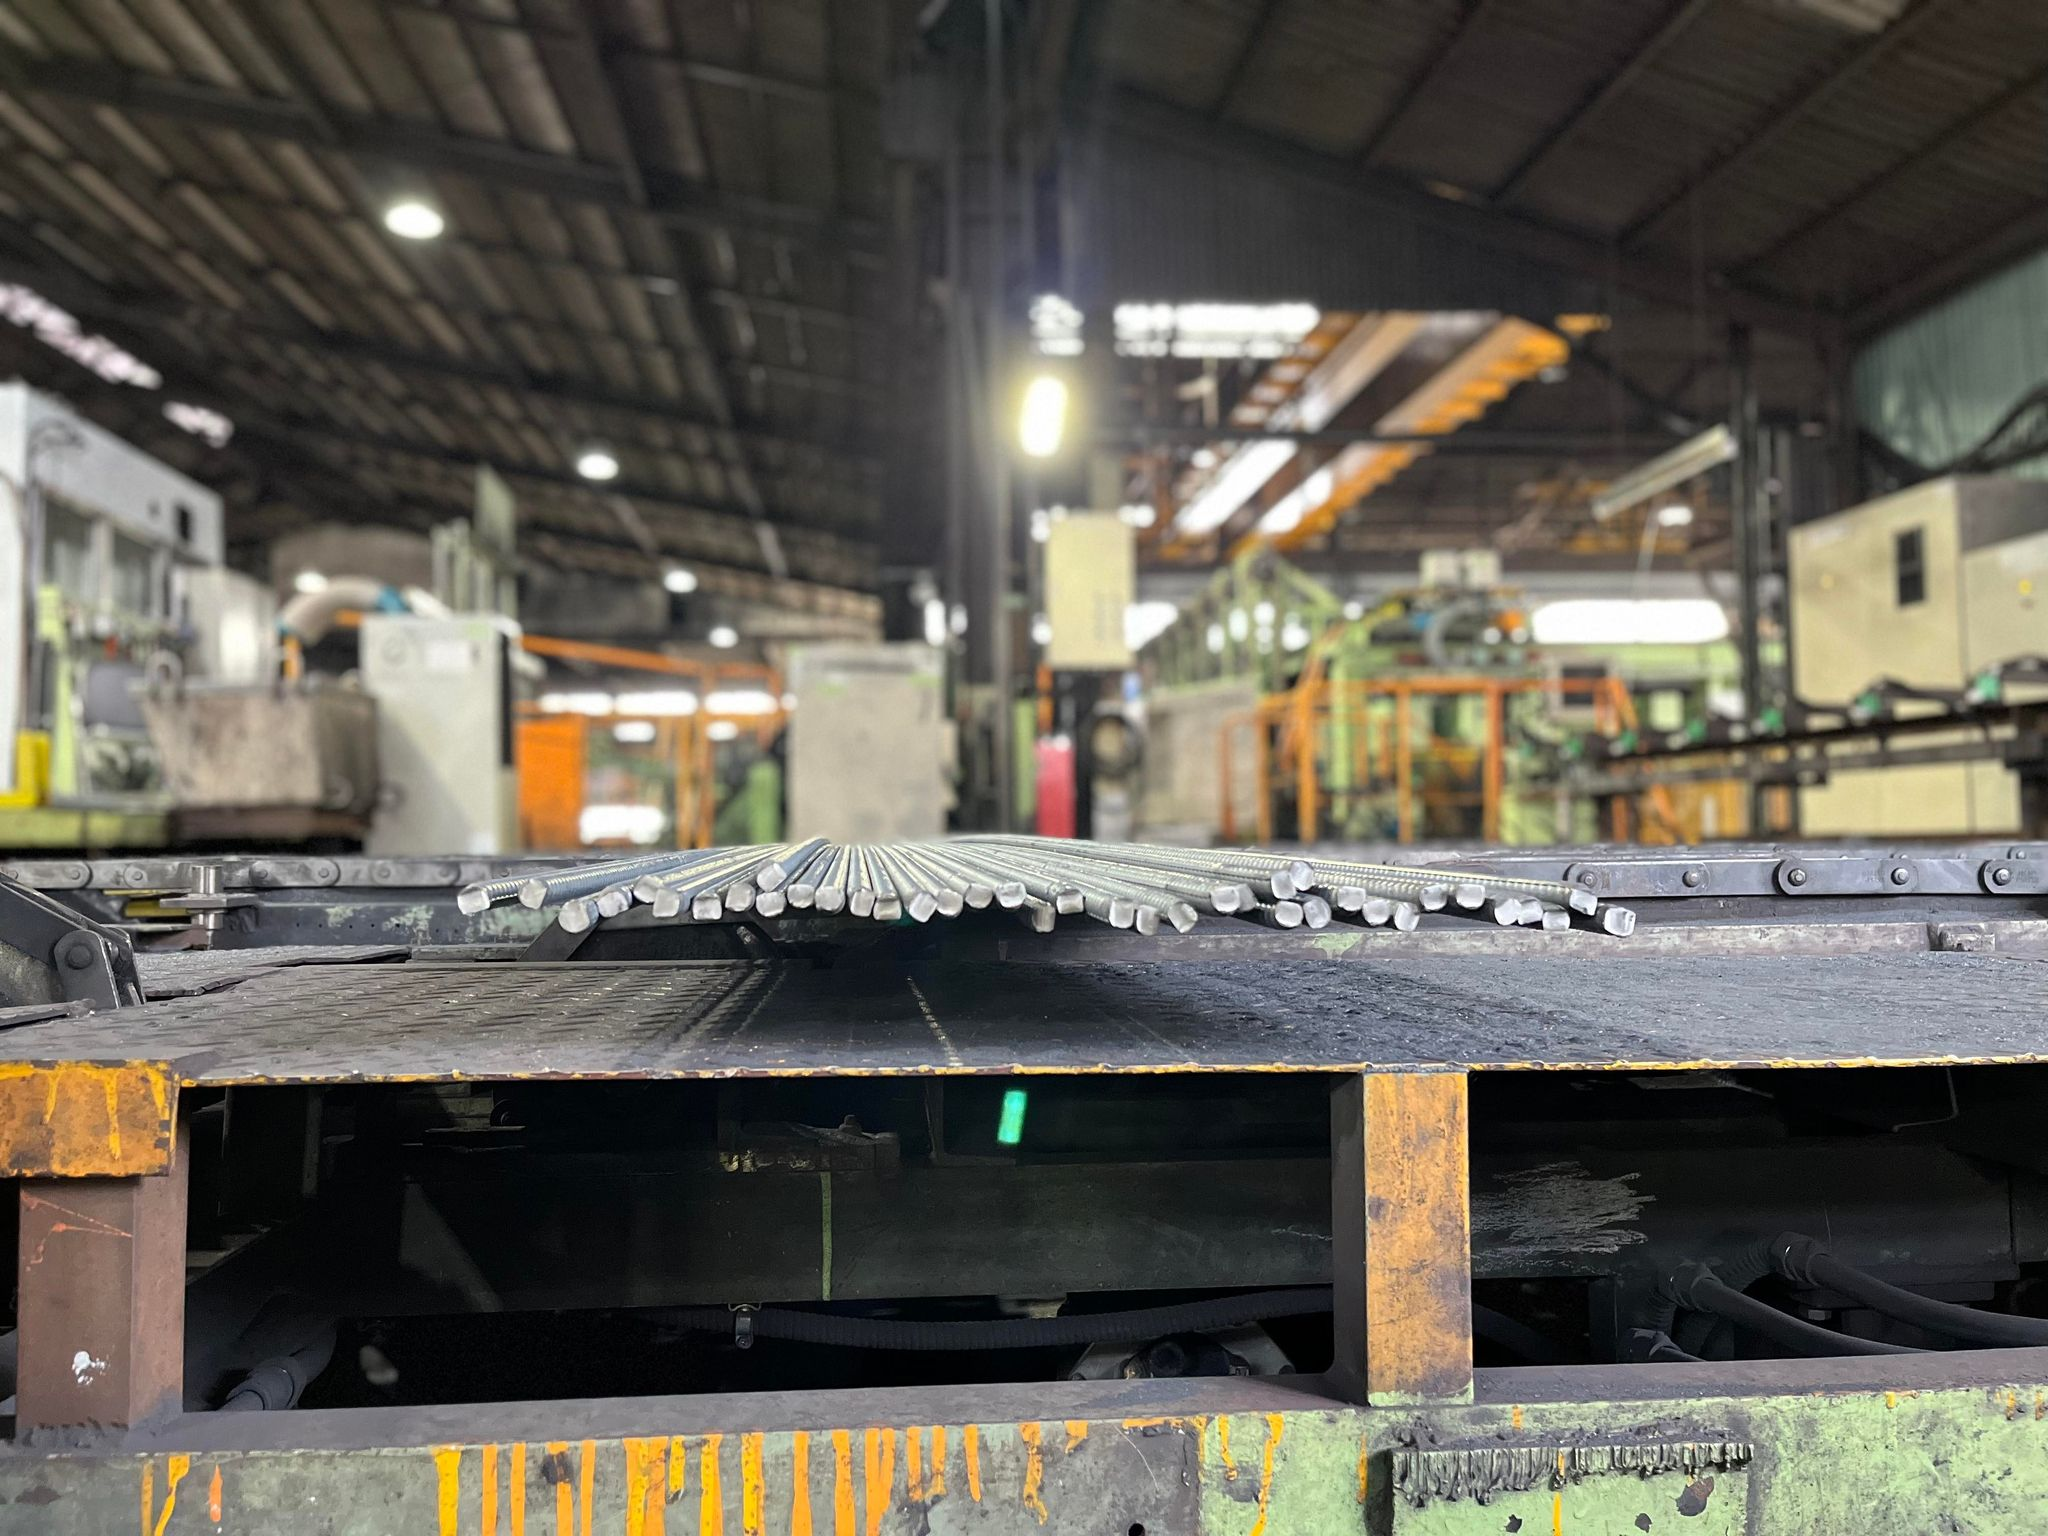rod: (455, 883, 493, 916), (1166, 899, 1200, 936), (1601, 905, 1640, 937), (556, 899, 592, 933), (516, 876, 548, 910), (597, 887, 631, 920), (724, 879, 756, 913), (906, 891, 939, 925), (1287, 858, 1317, 892), (632, 873, 664, 904), (651, 887, 682, 920), (692, 889, 722, 921), (755, 891, 789, 920), (1106, 895, 1135, 929), (1417, 883, 1451, 912), (1056, 886, 1087, 916), (1361, 897, 1392, 928), (814, 886, 847, 915), (872, 889, 901, 921), (1272, 899, 1305, 928), (1335, 883, 1367, 912), (755, 863, 789, 891), (1393, 899, 1421, 933), (997, 879, 1027, 908), (1208, 884, 1238, 913), (848, 886, 876, 918), (1135, 904, 1163, 936), (1305, 897, 1332, 929), (1455, 883, 1487, 910), (935, 887, 964, 916), (1493, 899, 1522, 928), (1271, 870, 1298, 900), (1569, 889, 1600, 916), (1030, 900, 1056, 933), (1540, 907, 1572, 933), (964, 883, 993, 910), (785, 883, 816, 908), (1517, 895, 1543, 925), (1238, 881, 1258, 913)
